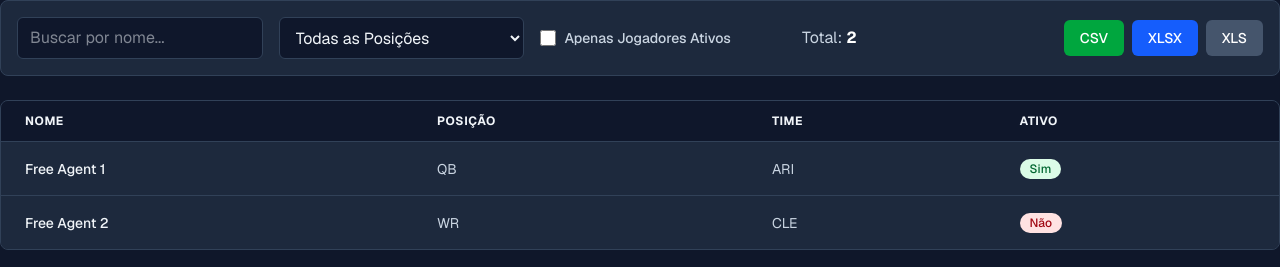
it: FreeAgentsReport › filters by active status
Expected: the text "Free Agent 1" is shown, [1,142,413,196]
Expected: the text "Free Agent 2" is shown, [1,196,413,249]
# Click checkbox to show only active
Click the checkbox labelled "Apenas Jogadores Ativos". click: click(548, 38)
box: [540,30,556,46]
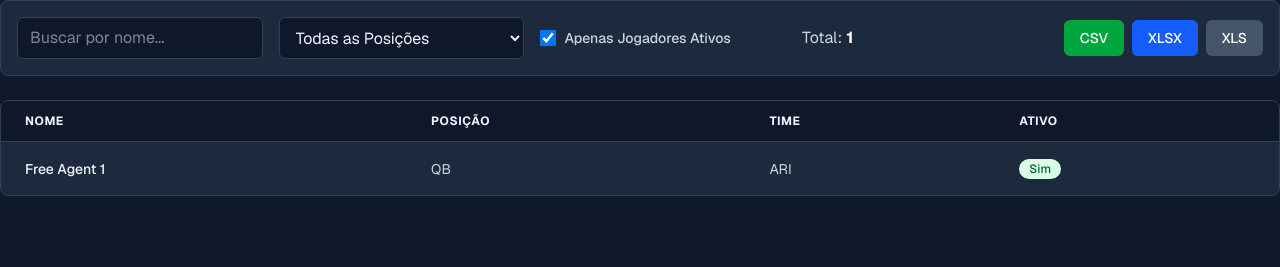
Expected: the text "Free Agent 1" is shown, [1,142,407,195]
Now the text "Free Agent 2" is gone
